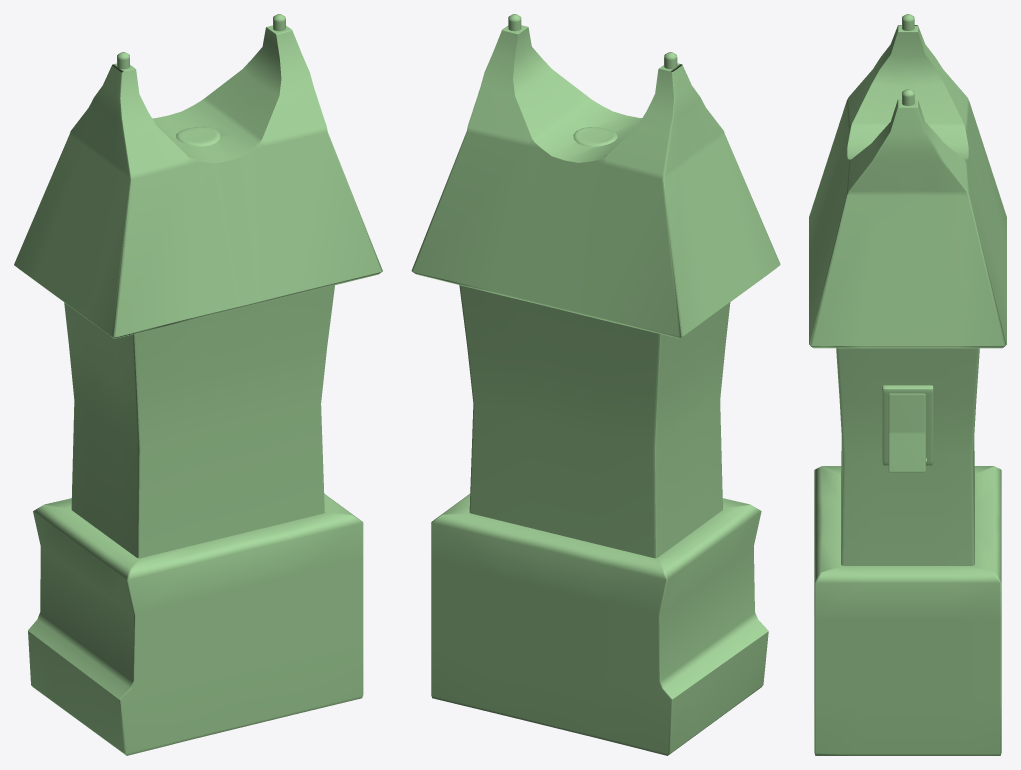
Rendered from Taser01.fbx.
The picture shows the model from 3 angles, left to right: view 1: azimuth 30°, elevation 25°; view 2: azimuth 150°, elevation 25°; view 3: azimuth 270°, elevation 25°; orthographic projection.
Parts seen in each view (by area): view 1: Taser01_Modelling_v001:Taser_Base1; view 2: Taser01_Modelling_v001:Taser_Base1; view 3: Taser01_Modelling_v001:Taser_Base1.
Boxes of the visible parts, <box> form: Taser01_Modelling_v001:Taser_Base1: <box>14,14,382,755</box>; Taser01_Modelling_v001:Taser_Base1: <box>411,14,780,755</box>; Taser01_Modelling_v001:Taser_Base1: <box>809,14,1006,755</box>.
Bounding box in the file's own units: 9.84 × 22.81 × 6.29.
Materials: 1 (1 with a texture image).
